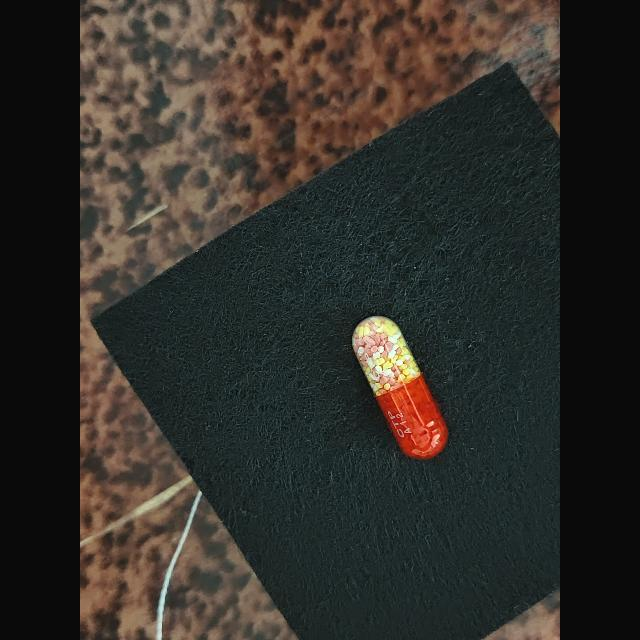Intact Capsule: (352, 316, 448, 459)
